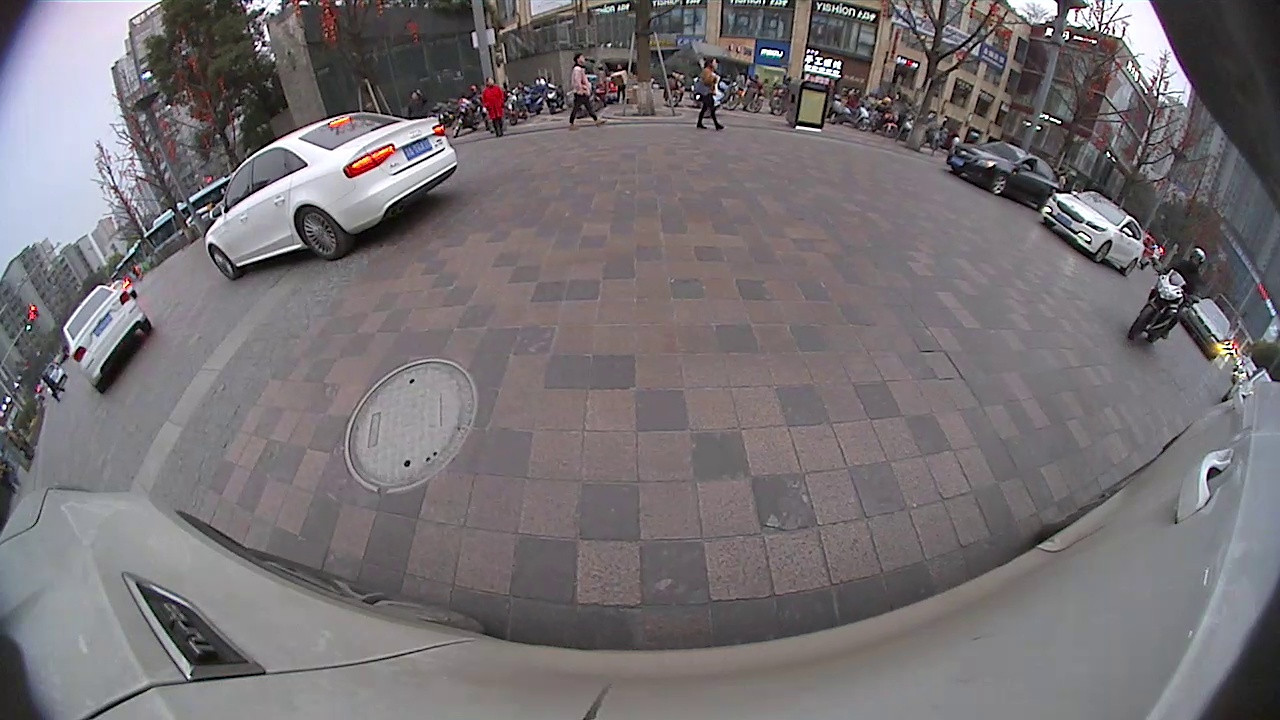car: (203, 109, 459, 281), (58, 279, 153, 396), (1039, 189, 1145, 277), (945, 131, 1063, 205), (1181, 298, 1234, 362)
front: (206, 244, 241, 282), (1091, 241, 1114, 264), (988, 170, 1009, 195)
person: (694, 55, 723, 131), (571, 49, 592, 131), (483, 74, 507, 141)
rear: (292, 201, 348, 265)
rider: (1126, 243, 1207, 348)
